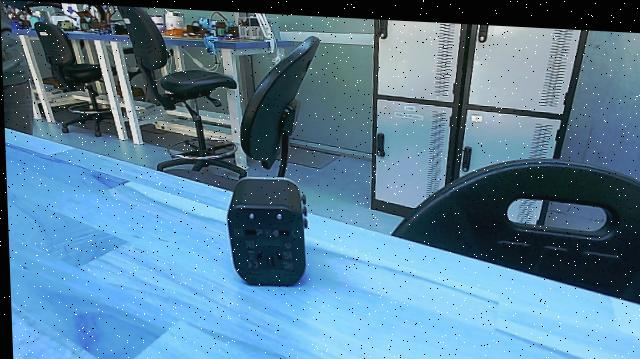adapter: (219, 168, 312, 291)
